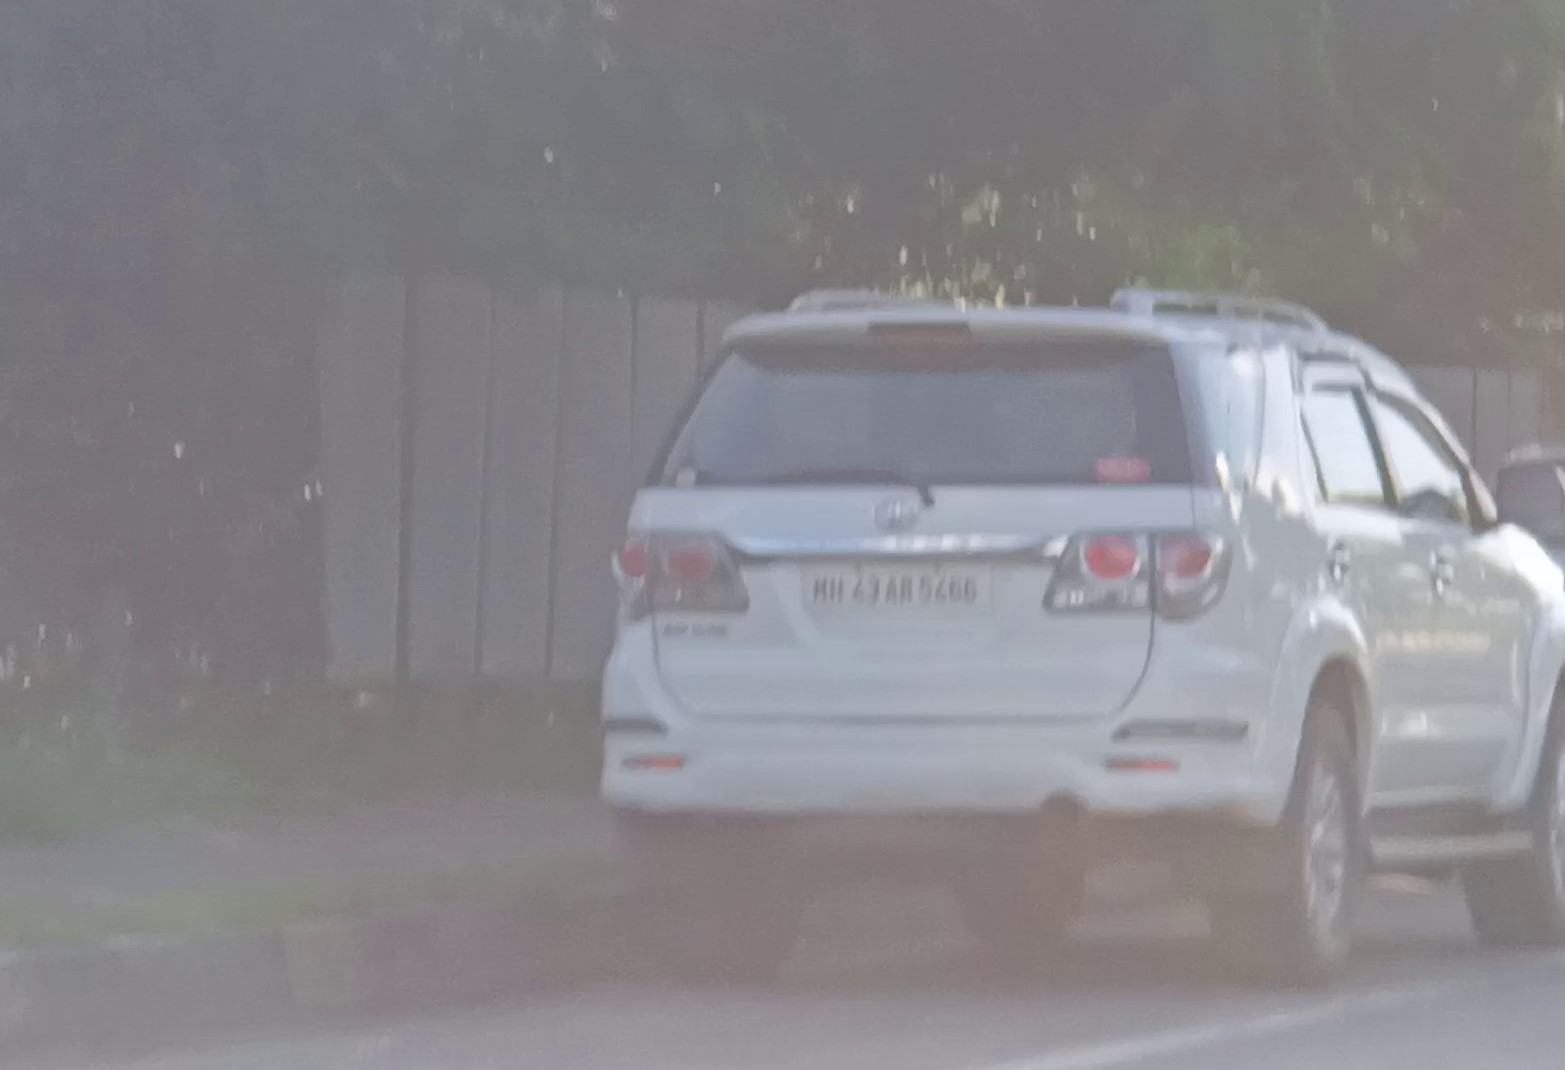MH43AR5466: (798, 571, 994, 614)
